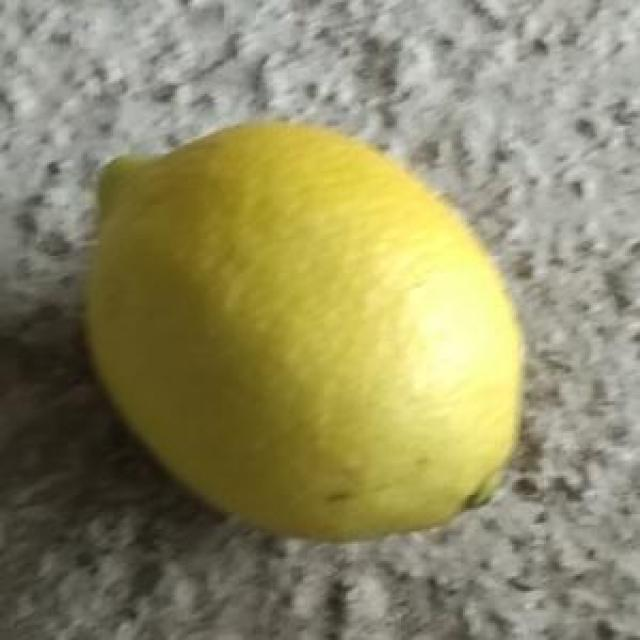lemon: (82, 123, 522, 542)
